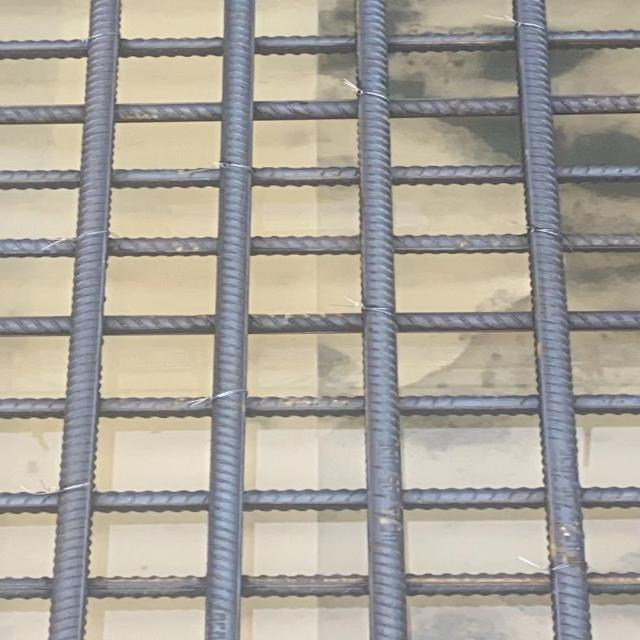ribbed bar: (511, 0, 593, 639), (46, 0, 122, 639), (200, 0, 255, 639), (356, 0, 408, 639), (0, 28, 639, 60), (0, 93, 639, 124), (0, 164, 639, 191), (0, 487, 639, 514), (0, 572, 639, 599), (0, 232, 639, 258), (0, 393, 639, 419), (0, 311, 639, 336)
